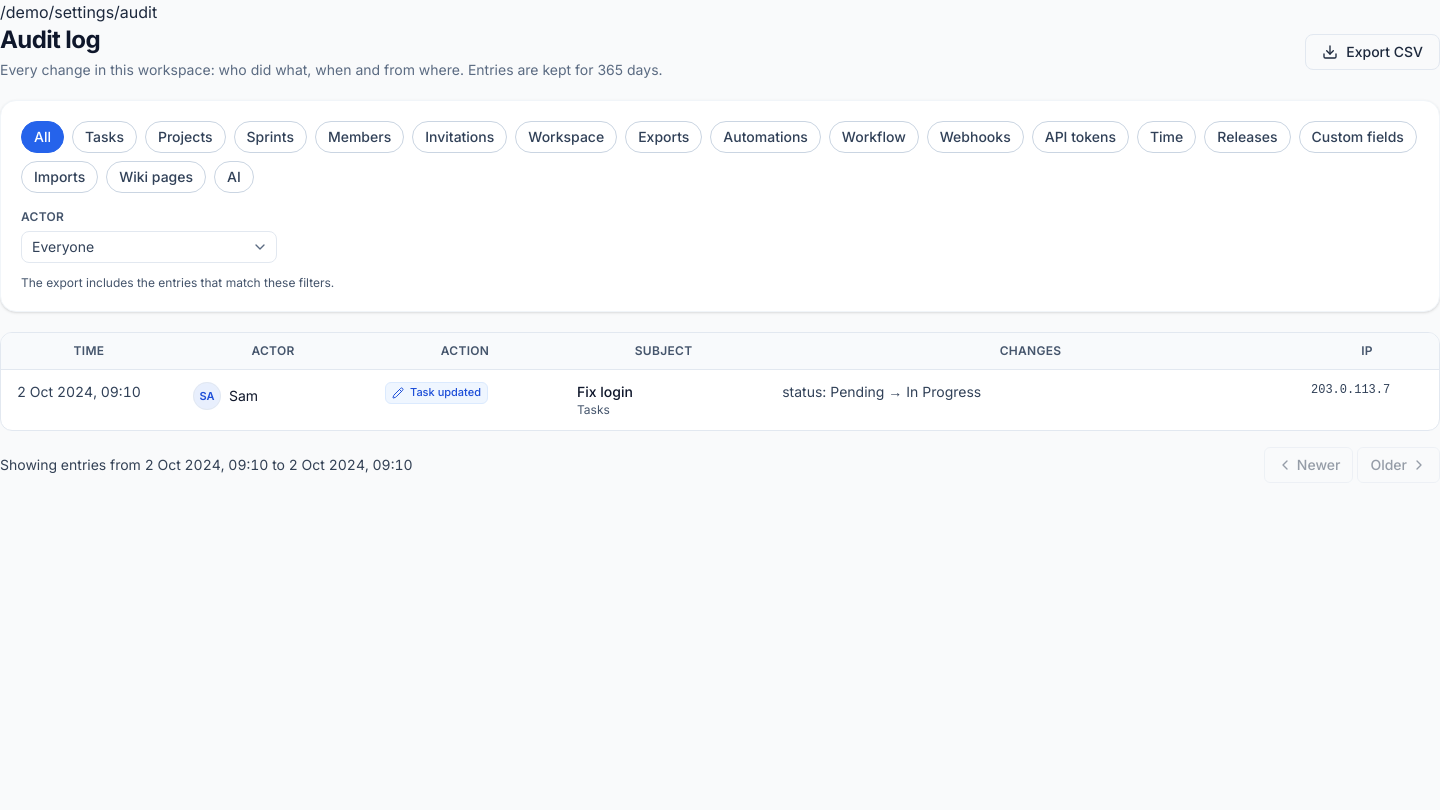
Test case: AuditLogPage › opens the detail sheet with all fields and a link to the task
Click the text "Fix login".
click(605, 392)  # box [577, 383, 633, 400]
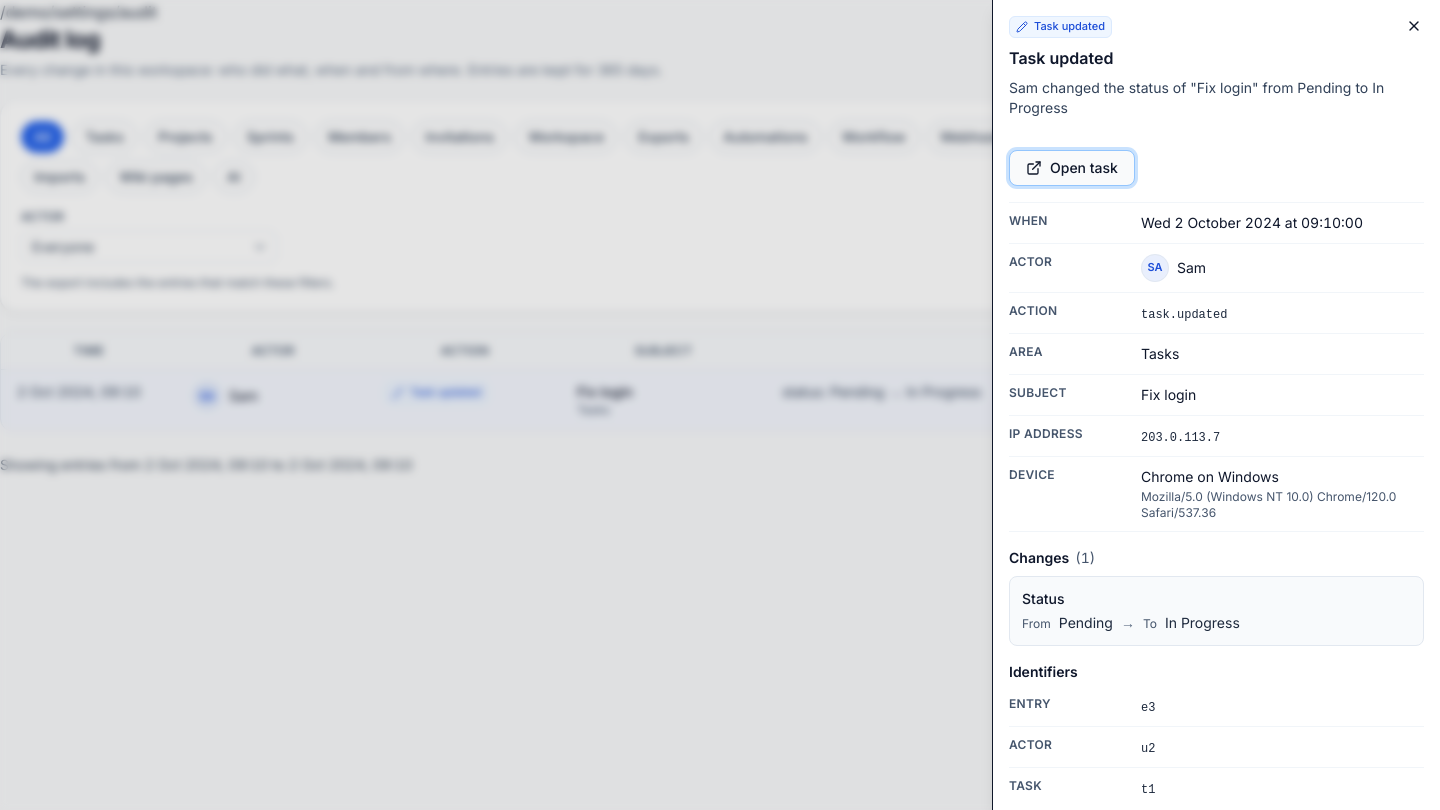
Now the text "Sam changed the status of \"Fix login\" from Pending to In Progress" is shown, box [1009, 78, 1392, 118]
Now the text "Chrome on Windows" is shown, box [1141, 468, 1279, 485]
Now the text "203.0.113.7" is shown, box [1141, 431, 1220, 445]
